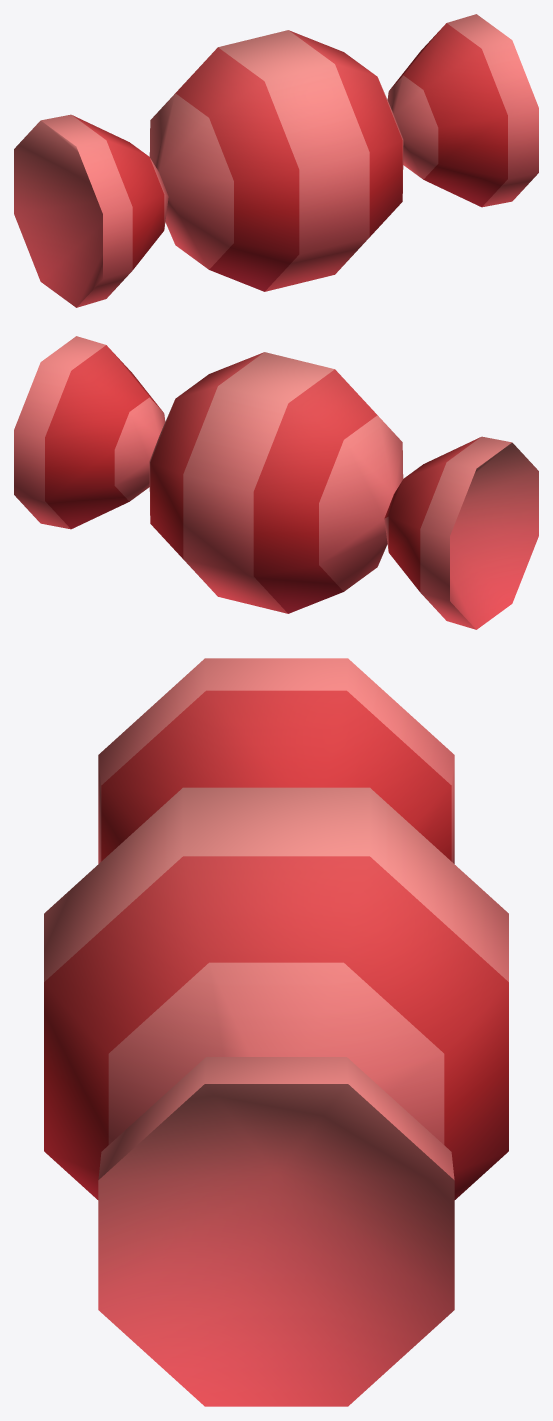
The model's file is candy_pink_B.gltf.
3 views of the same model, one above another, from view 1: azimuth 30°, elevation 25°; view 2: azimuth 150°, elevation 25°; view 3: azimuth 270°, elevation 25° (orthographic). The views are drawn at different scales.
Parts seen in each view (by area): view 1: candy_pink_B; view 2: candy_pink_B; view 3: candy_pink_B.
Boxes of the visible parts, x1,y1,x2,y2 form: candy_pink_B: (14, 14, 538, 307); candy_pink_B: (14, 336, 538, 629); candy_pink_B: (44, 658, 508, 1406).
Bounding box in the file's own units: 0.65 × 0.3 × 0.3.
Materials: 1 (1 with a texture image).
